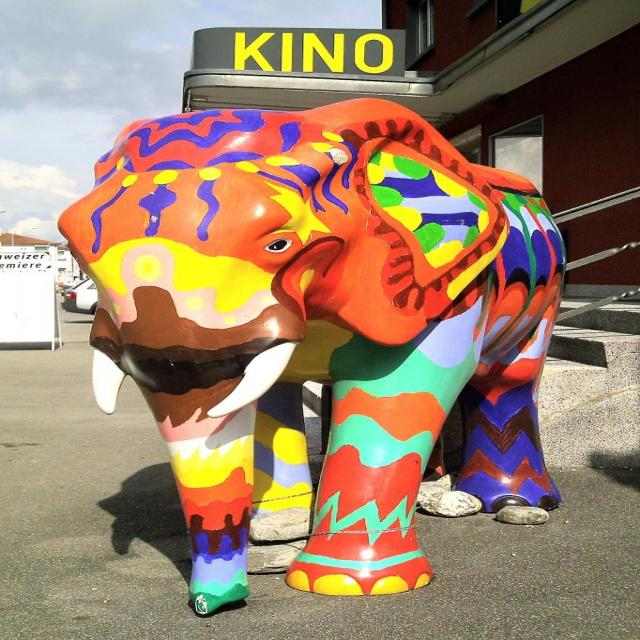elephant: (64, 90, 577, 572)
